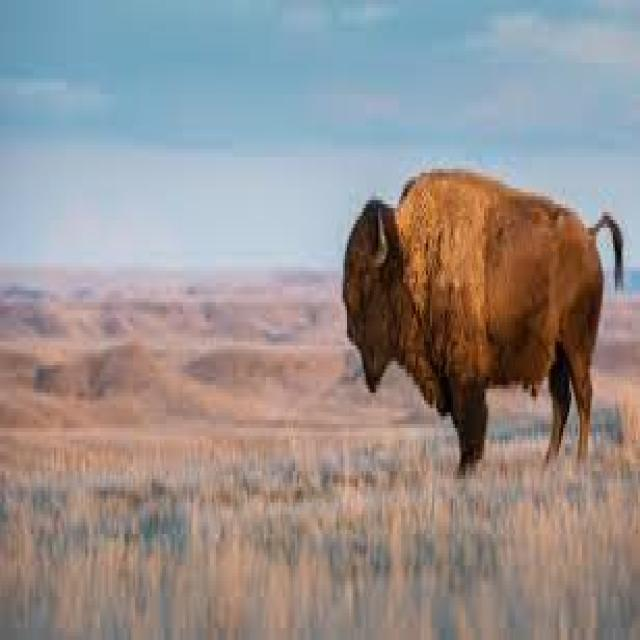Bison: (340, 114, 640, 614)
